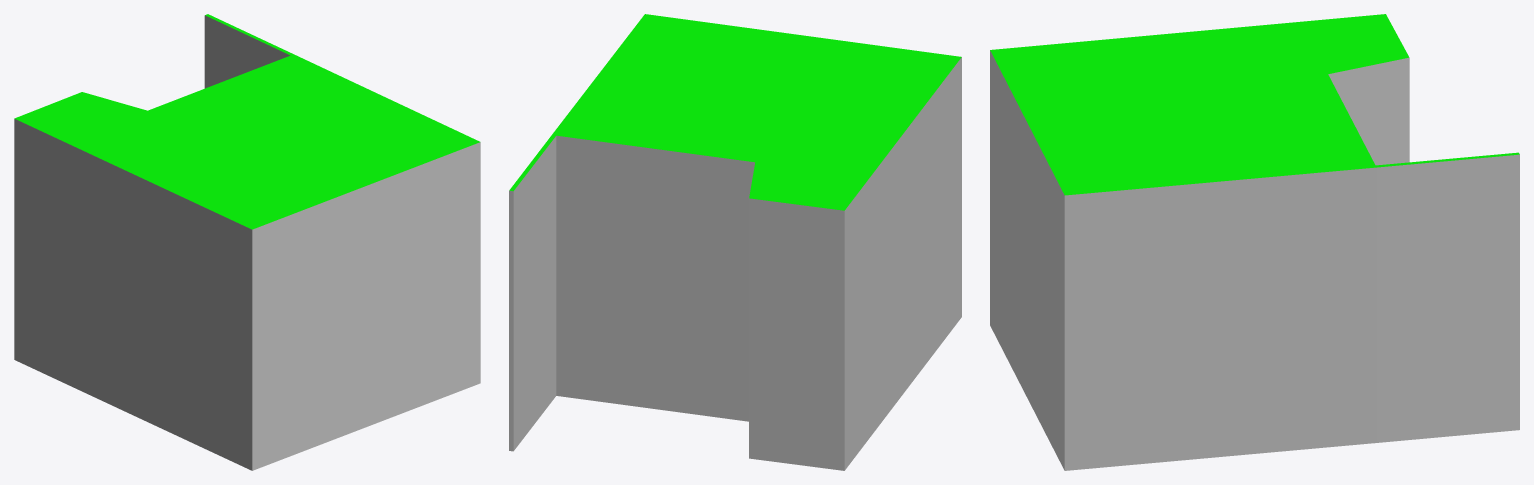
The model's file is DEHB01ALs0000gem.gltf.
3 views of the same model, side by side, from view 1: azimuth 30°, elevation 25°; view 2: azimuth 150°, elevation 25°; view 3: azimuth 270°, elevation 25° (orthographic). The views are drawn at different scales.
Parts seen in each view (by area): view 1: Z_UP; view 2: Z_UP; view 3: Z_UP.
Boxes of the visible parts, box(x1,y1,x2,y2) form: Z_UP: box(14, 14, 480, 470); Z_UP: box(509, 14, 961, 470); Z_UP: box(990, 14, 1519, 470).
Size of the model in its own units: 10.97 by 7.76 by 13.53.
